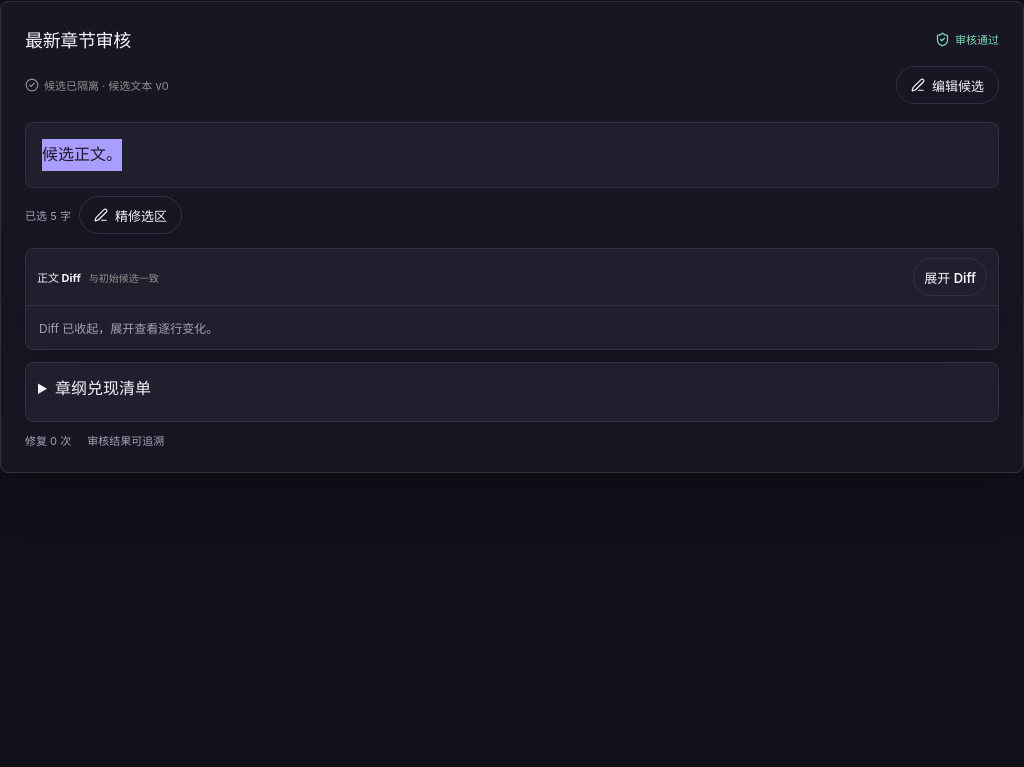
Test: ChapterReview memory review › keeps the original candidate and reports a revision conflict when applying a stale option
Click the button "精修选区": (131, 215) [79, 196, 182, 234]
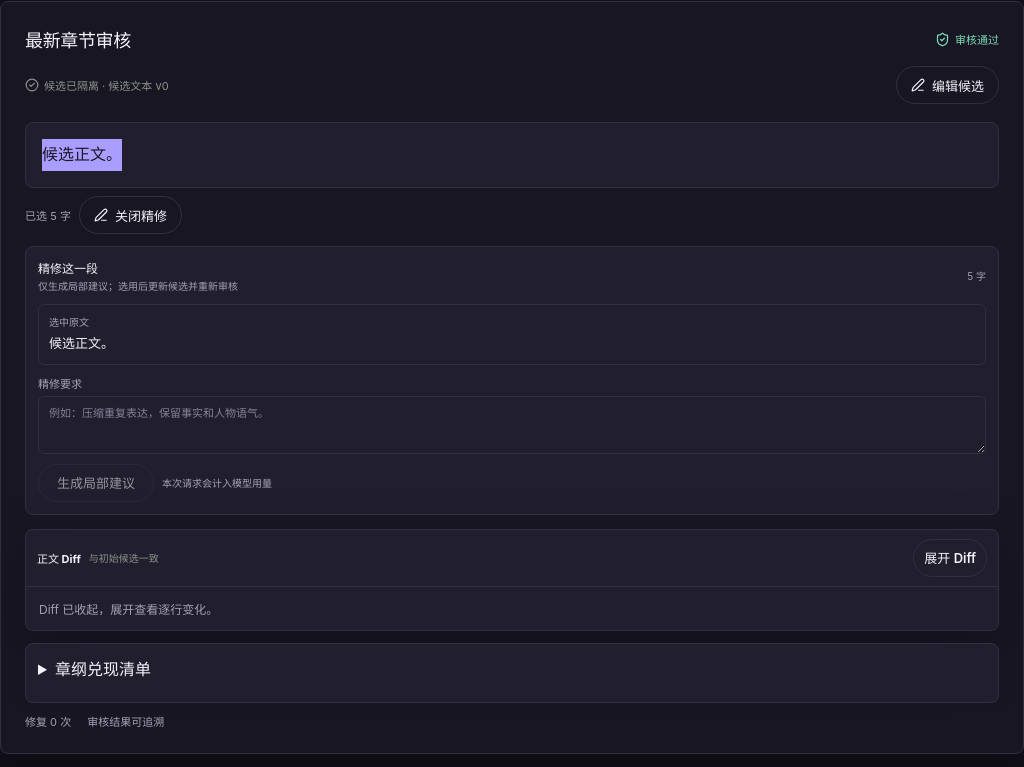
In the text box labelled "精修要求": (512, 425) [38, 396, 986, 454], type "压缩"
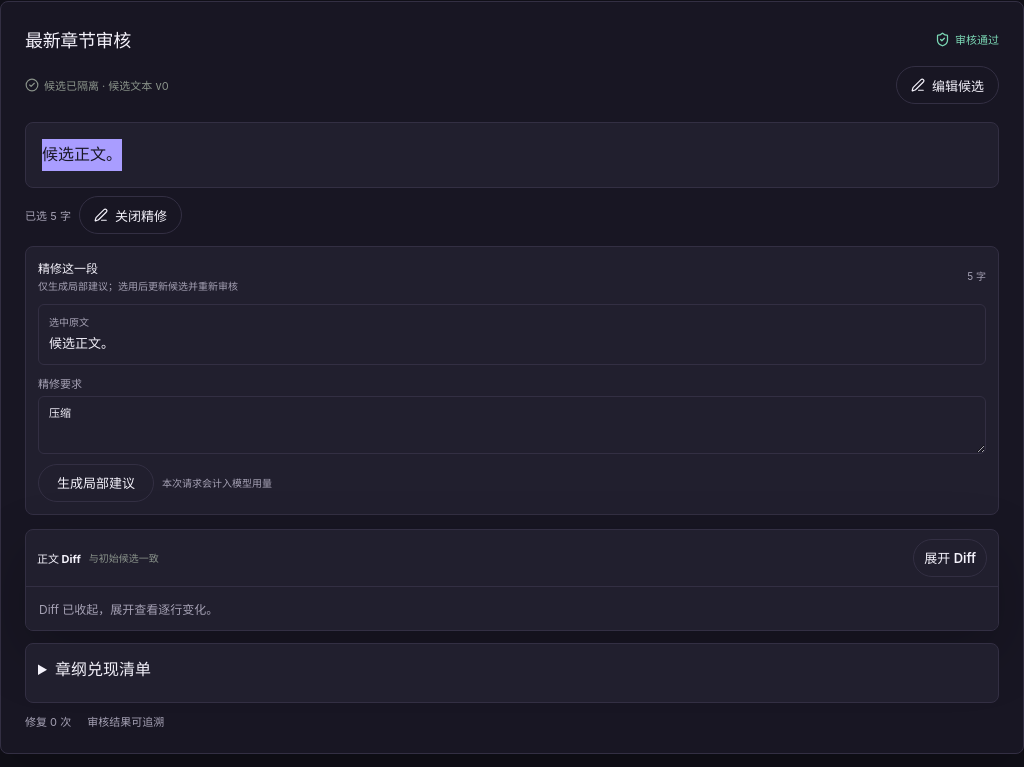
Click the button "生成局部建议": (96, 483) [38, 464, 154, 502]
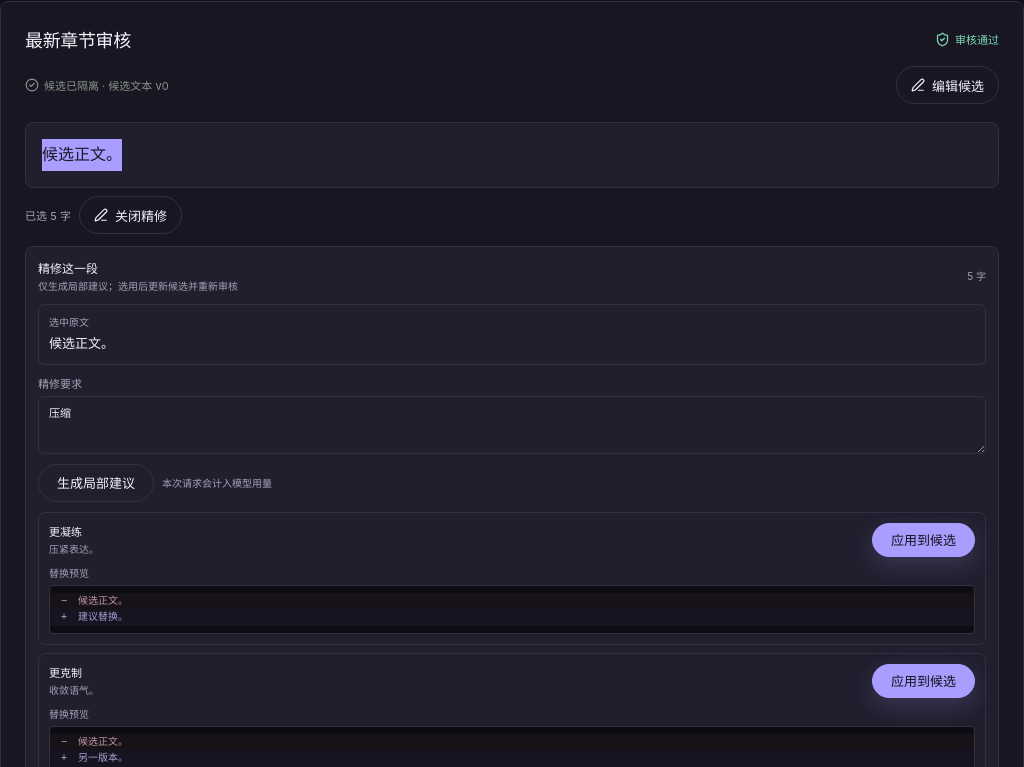
Expected: the text "压紧表达。" is shown, [49, 542, 99, 556]
Click the button "应用到候选" in the row of "压紧表达。": (924, 540) [872, 523, 975, 557]
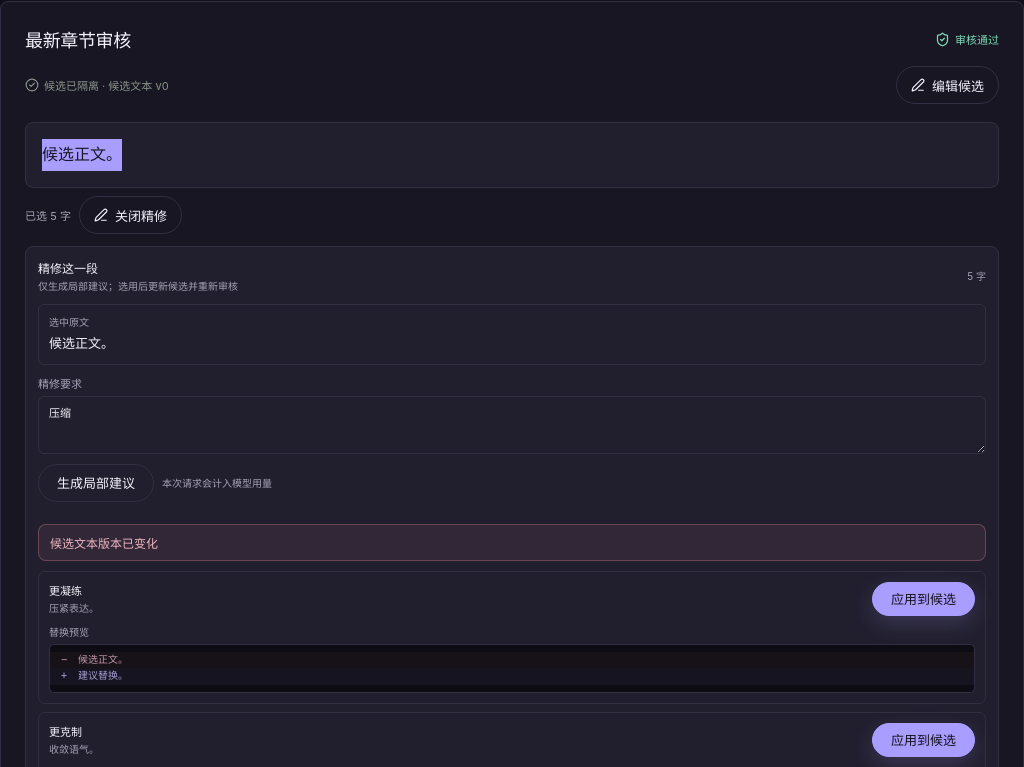
Expected: the 1st text "候选正文。" is shown, [25, 122, 999, 188]
Expected: the message reads "候选文本版本已变化", [50, 536, 158, 551]
